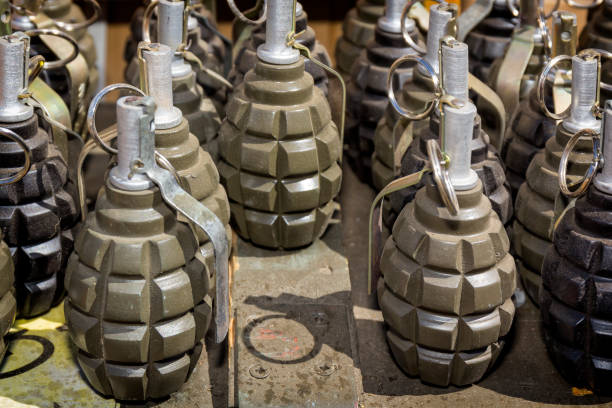e1: (76, 83, 232, 402), (361, 108, 528, 376), (224, 1, 347, 242)
